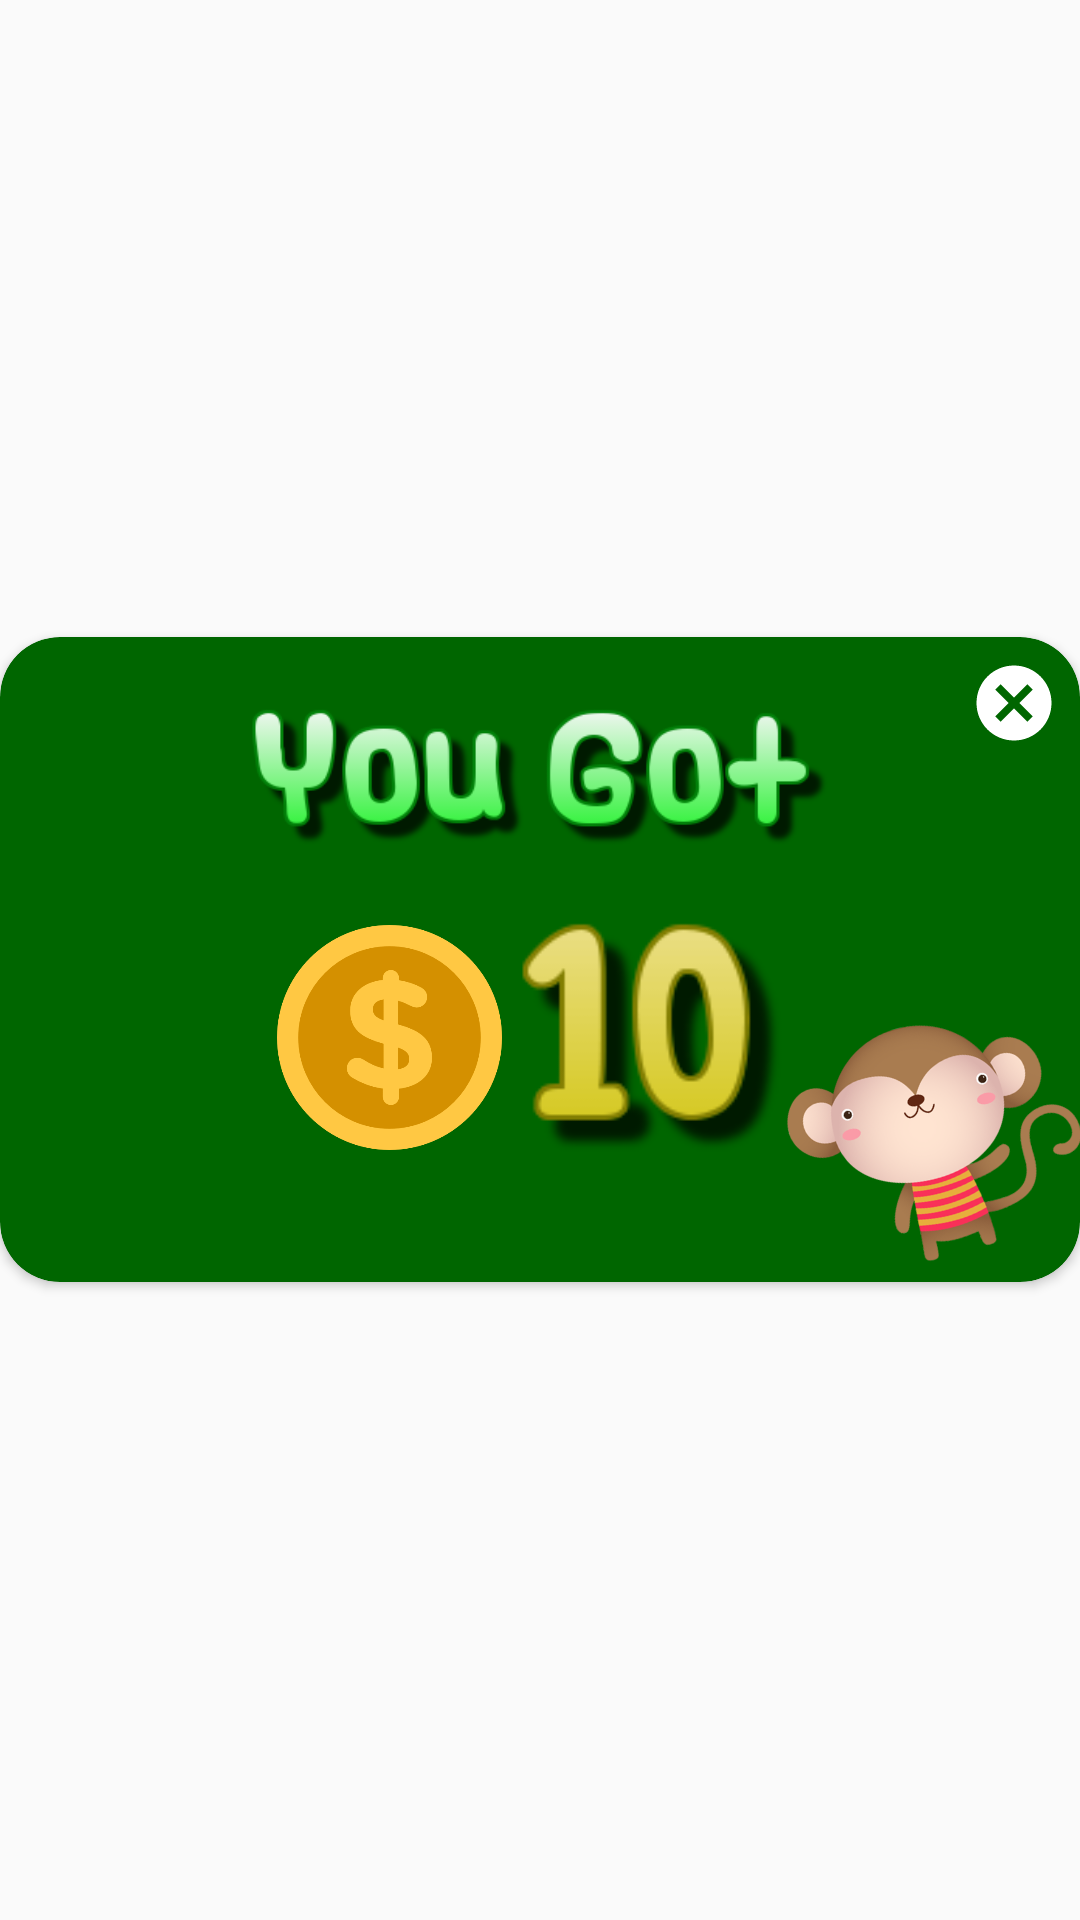

Screen size 1080x1920. Icon name, then its box in pixels as (x1, y1, x2, y2):
cancel: (976, 665, 1052, 741)
coin: (277, 925, 502, 1150)
